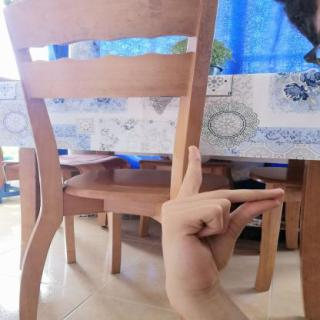TAA: (151, 139, 293, 299)
